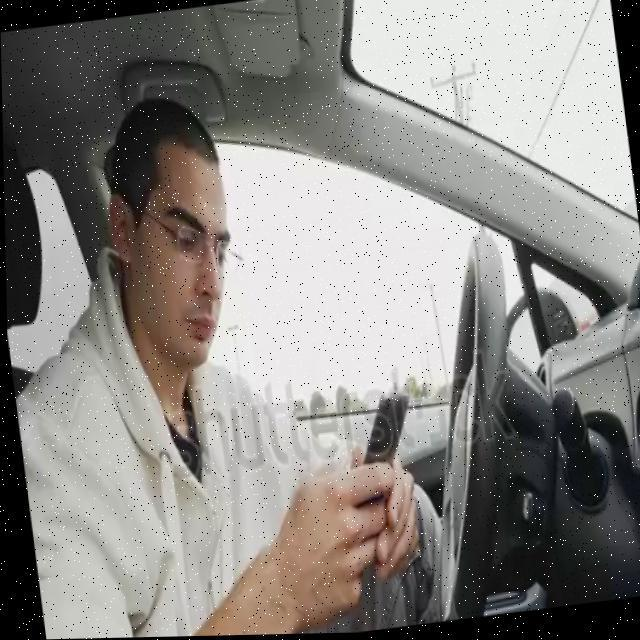PhoneCall: (352, 388, 415, 482)
